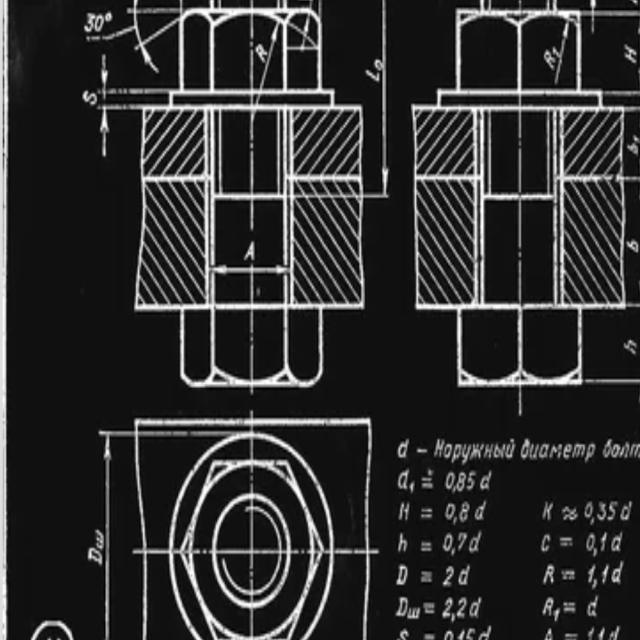marking_line: (97, 429, 133, 640), (367, 3, 390, 198), (128, 0, 178, 73), (94, 52, 169, 98), (97, 104, 142, 161), (552, 21, 571, 86), (259, 23, 278, 86), (212, 264, 286, 278)
numeric: (456, 596, 469, 621), (586, 591, 599, 616), (611, 563, 624, 586), (442, 564, 453, 588), (459, 501, 470, 525), (93, 14, 104, 36), (441, 597, 452, 619), (608, 499, 618, 523), (84, 13, 95, 34), (612, 531, 622, 554), (586, 531, 596, 553), (445, 504, 457, 522), (443, 533, 453, 554), (457, 531, 467, 552), (445, 471, 456, 490), (466, 473, 477, 492), (457, 472, 467, 492), (599, 531, 607, 554), (600, 563, 608, 585), (585, 500, 594, 519), (598, 502, 607, 521), (586, 624, 596, 640), (587, 565, 594, 583), (598, 626, 605, 640)
special_symbol: (563, 506, 578, 523), (420, 475, 434, 491), (421, 568, 434, 585), (422, 600, 436, 615), (563, 600, 577, 614), (562, 570, 577, 582), (559, 535, 575, 546), (421, 507, 434, 520), (421, 540, 433, 553), (563, 631, 578, 640), (423, 631, 435, 640), (106, 10, 114, 22)
